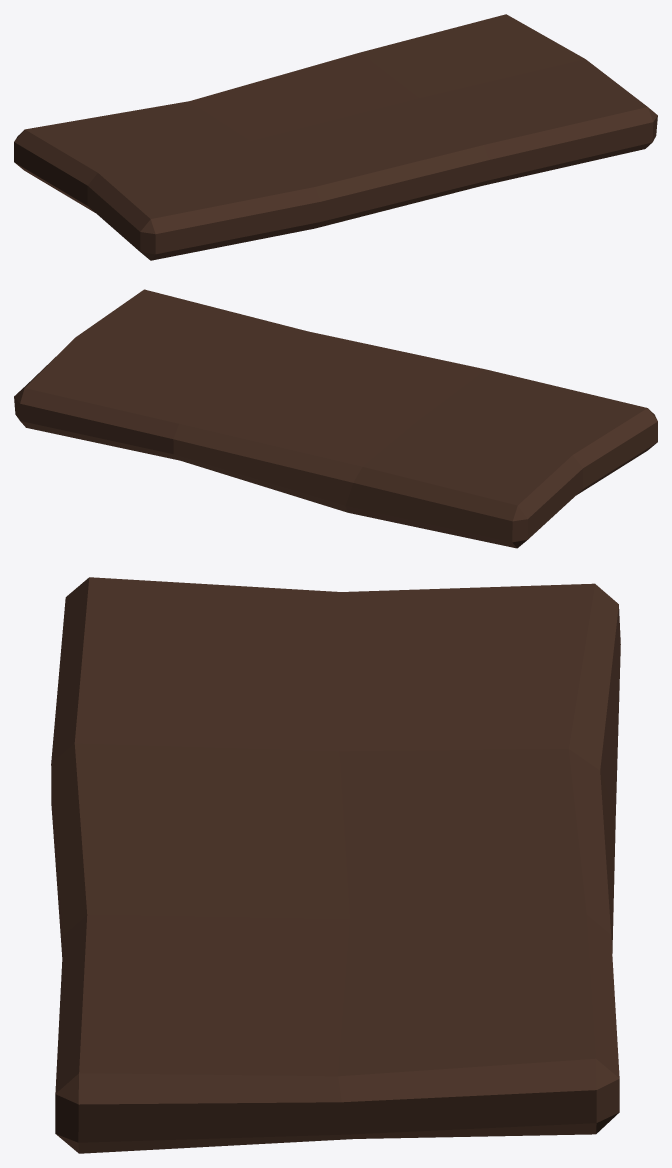
The model's file is wood2.fbx.
3 views of the same model, one above another, from view 1: azimuth 30°, elevation 25°; view 2: azimuth 150°, elevation 25°; view 3: azimuth 270°, elevation 25° (orthographic). The views are drawn at different scales.
Visible parts, largest first — view 1: Cube.001; view 2: Cube.001; view 3: Cube.001.
Boxes of the visible parts, bbox=[...] form: Cube.001: bbox=[14, 14, 657, 260]; Cube.001: bbox=[14, 289, 657, 548]; Cube.001: bbox=[51, 577, 620, 1153].
Bounding box in the file's own units: 151 × 13.8 × 72.15.
